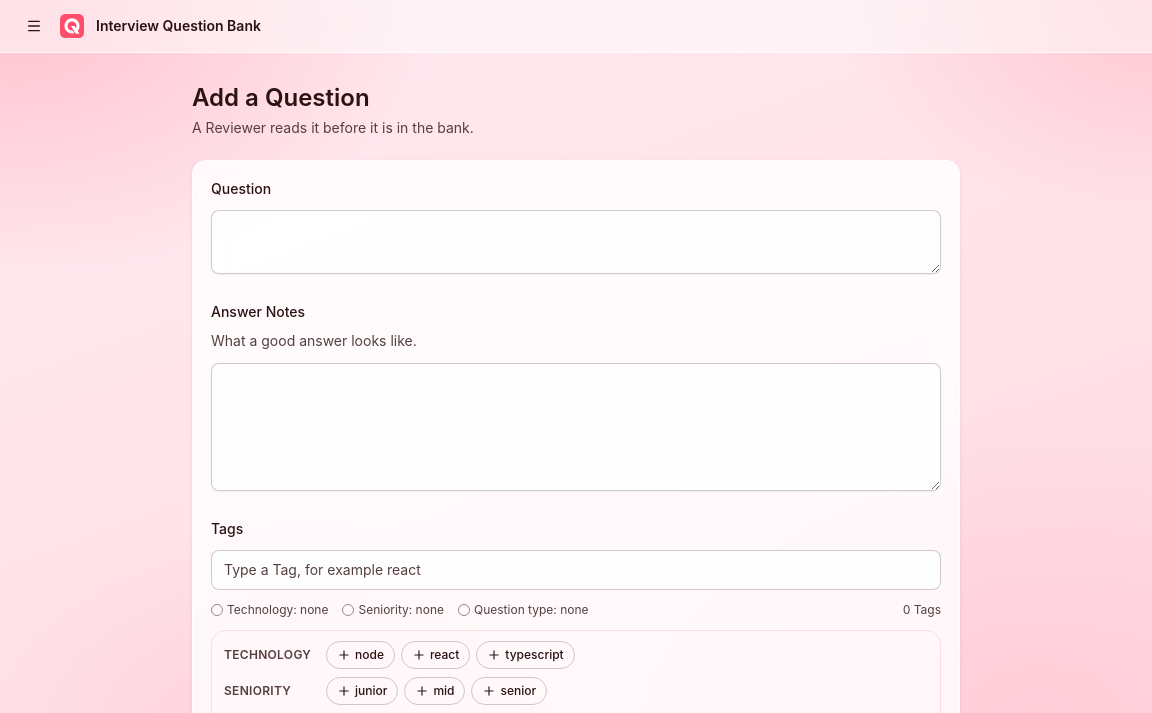
Test: a Question the API judged a Near-Duplicate › goes back to the form without sending anything, with the draft still there
Type "How would you find a slow query?" into the text box labelled "Question" at (576, 242), box [211, 210, 941, 274]
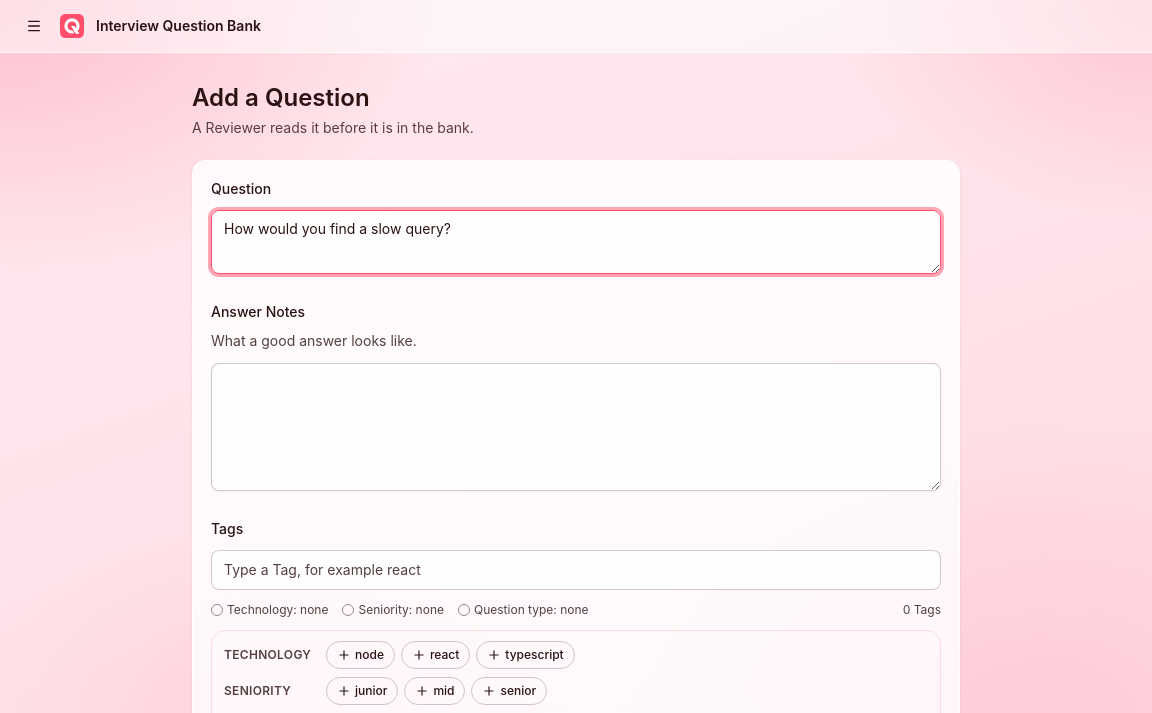
Type "Look for EXPLAIN ANALYZE." into the text box labelled "Answer Notes" at (576, 426), box [211, 362, 941, 490]
(page scrolled)
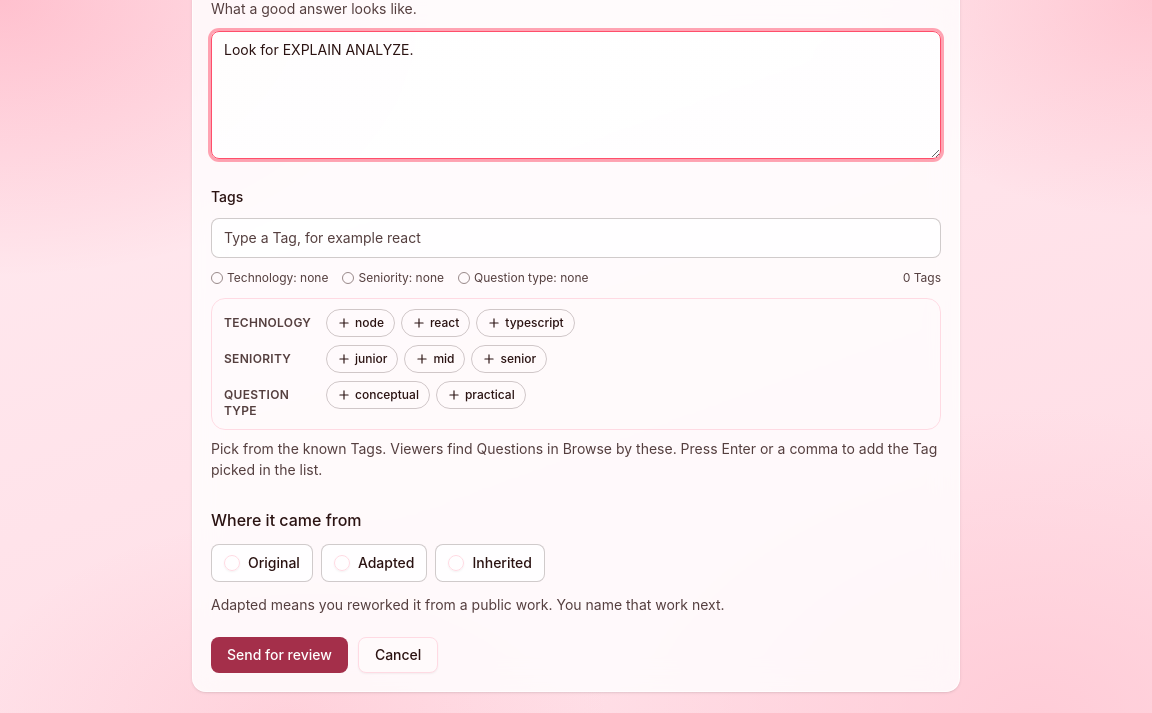
Click the radio button named "Original" next to "Original" at (232, 563), box [224, 555, 240, 571]
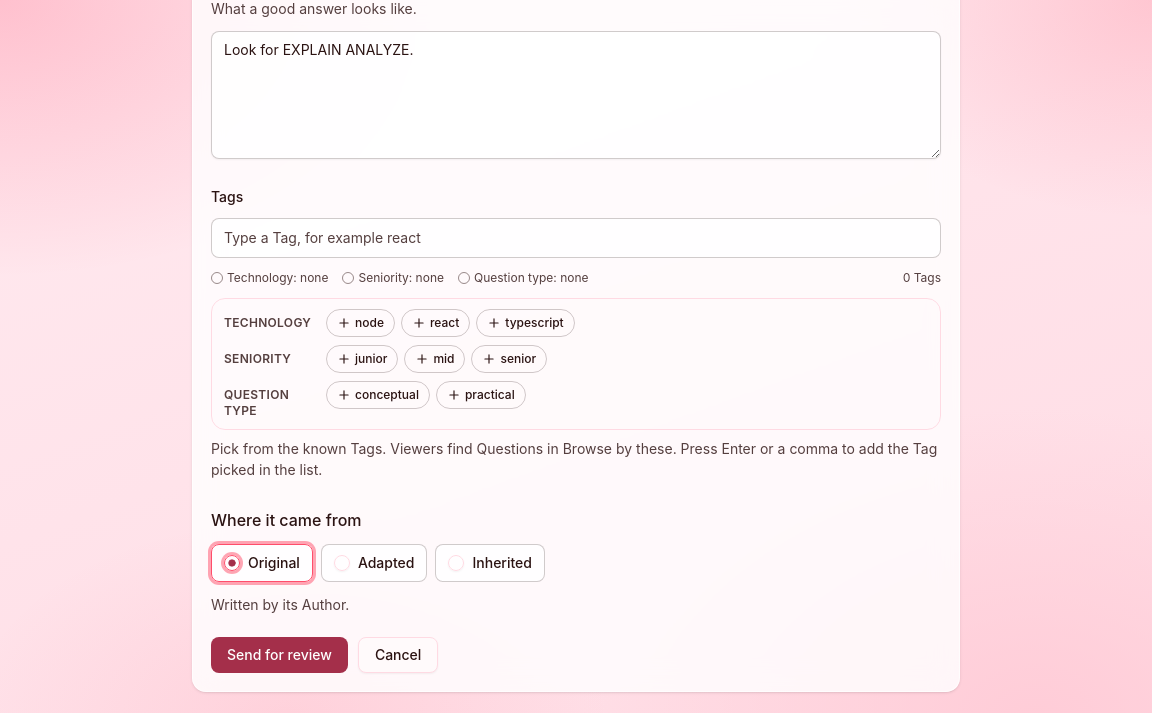
Click the button "Send for review" at (279, 655), box [211, 637, 348, 673]
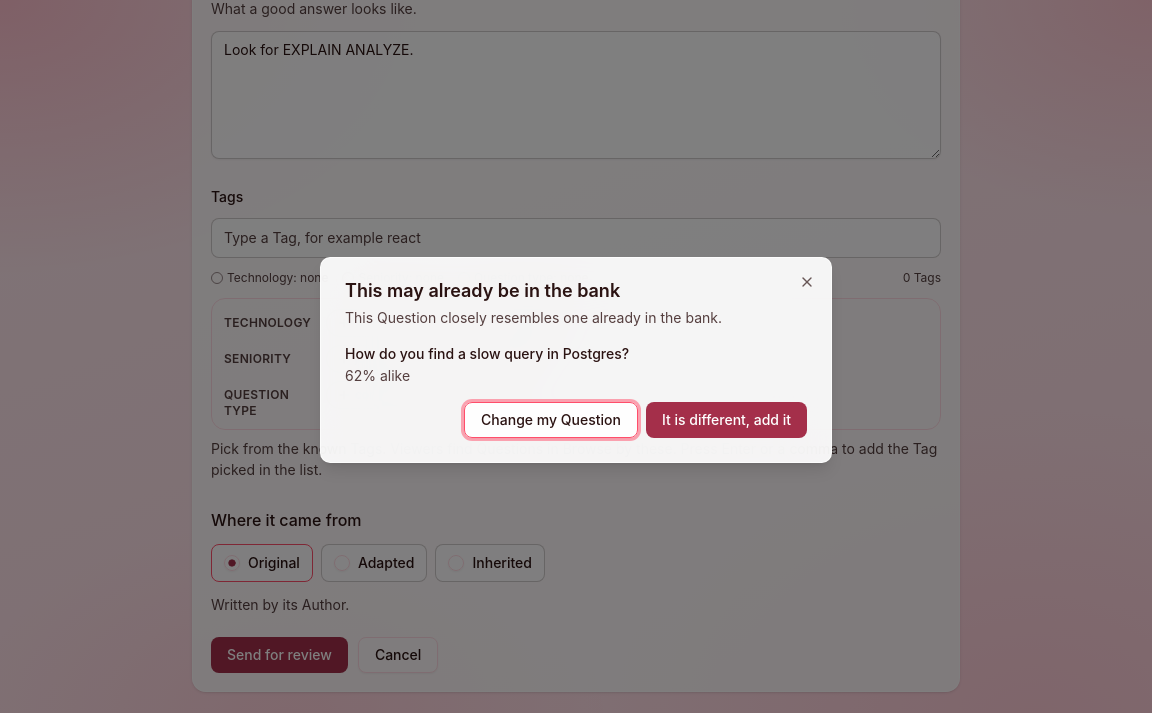
Click the button "Change my Question" at (551, 420), box [464, 402, 638, 438]
(page scrolled)
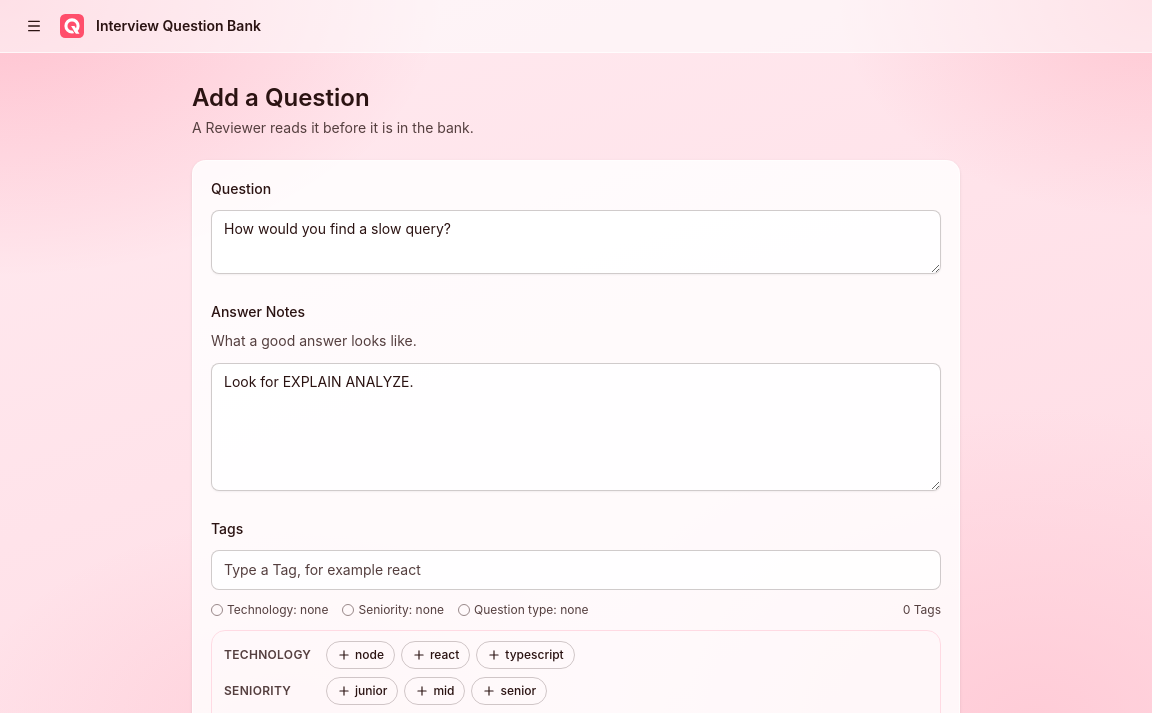
Expected: the dialog is gone
